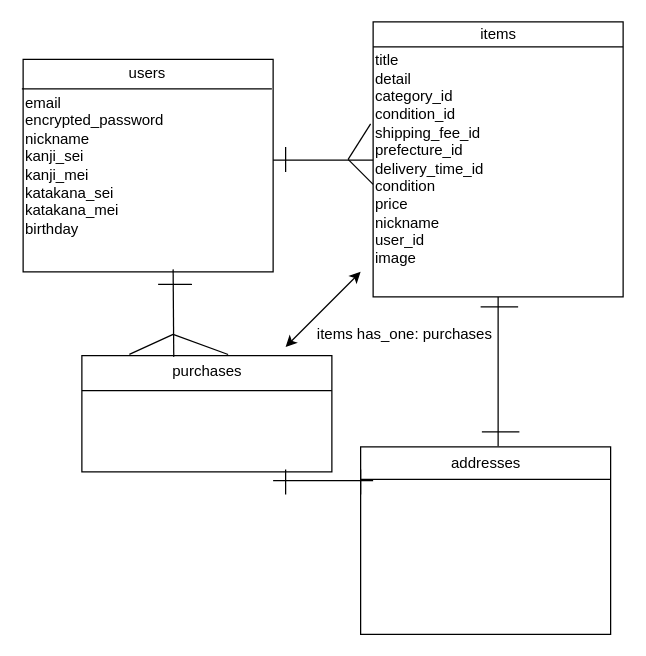
This 646x656 diagram has some shape labels left out. The box of each missing label's shape, as (x1, y1, x2, y2) in pixels:
prefecture postal_code city house_number phone_numner purchase_id: (359, 446, 611, 634)
user_id item_id: (81, 354, 332, 472)
